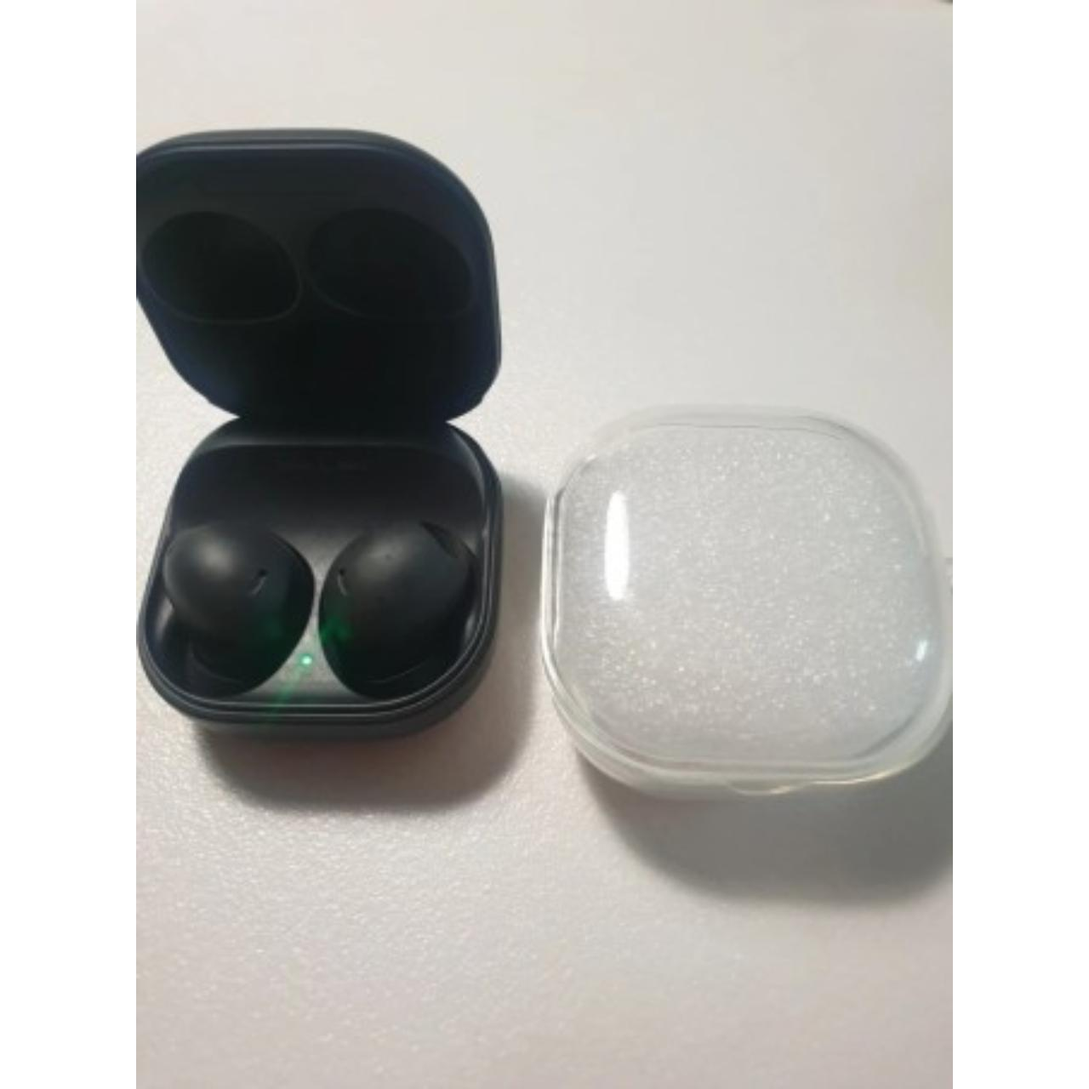Buds: (137, 123, 517, 737), (545, 407, 954, 807)
Buds_Units: (313, 509, 497, 707), (151, 513, 321, 705)
